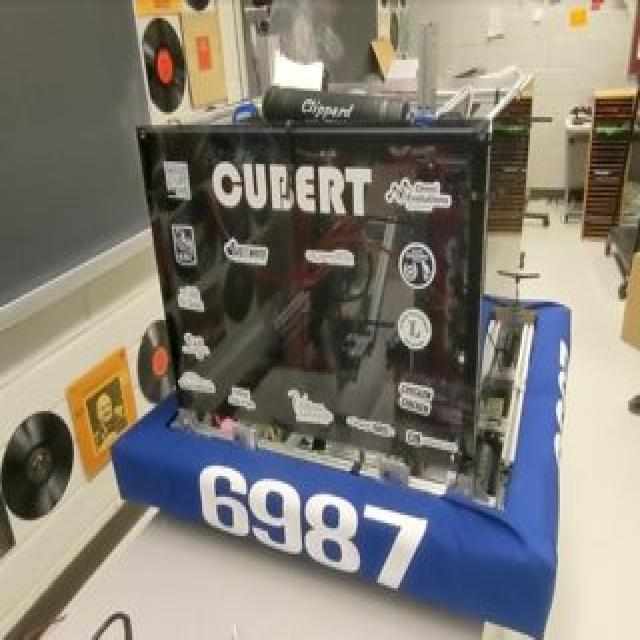robot: (96, 76, 615, 639)
